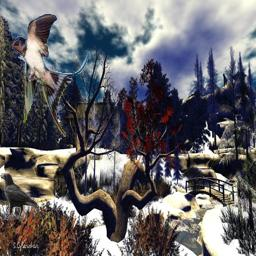Crow: (1, 173, 39, 220)
Swallow: (12, 14, 88, 137)
